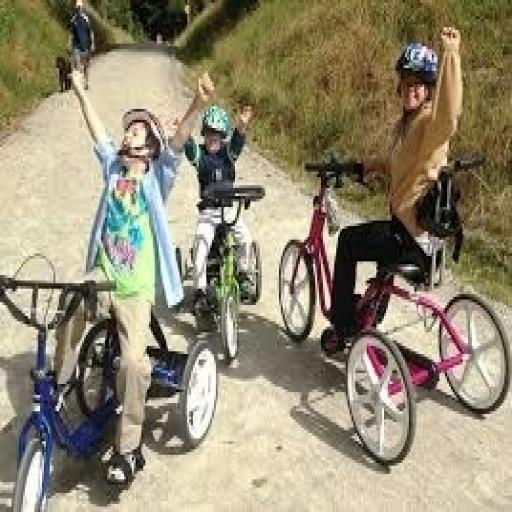cycling: (50, 60, 218, 487), (319, 22, 466, 359), (176, 90, 260, 321)
